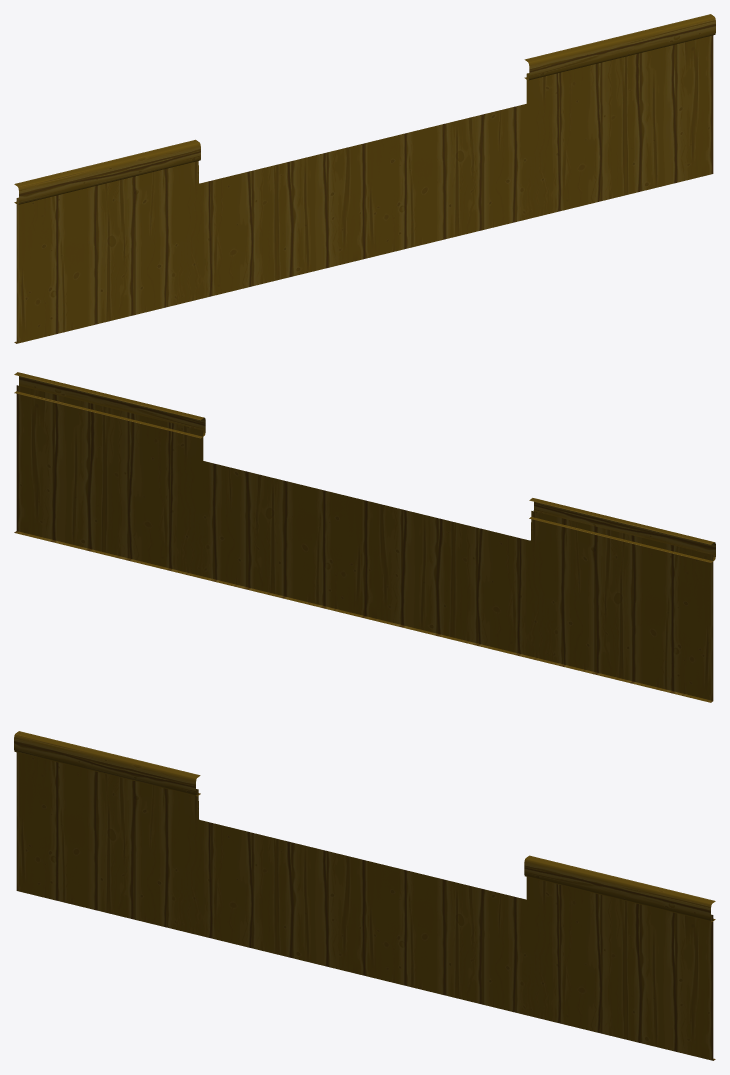
File: SM_wooden_panel_03.glb
3 views of the same model, one above another, from view 1: azimuth 30°, elevation 25°; view 2: azimuth 150°, elevation 25°; view 3: azimuth 330°, elevation 25° (orthographic).
Visible parts, largest first — view 1: SM_wooden_panel_03; view 2: SM_wooden_panel_03; view 3: SM_wooden_panel_03.
Boxes of the visible parts, x1,y1,x2,y2 form: SM_wooden_panel_03: (14,14,715,343); SM_wooden_panel_03: (14,372,715,702); SM_wooden_panel_03: (14,731,715,1060).
Bounding box in the file's own units: 6 × 1.3 × 0.075.
1 material, 1 textured.
